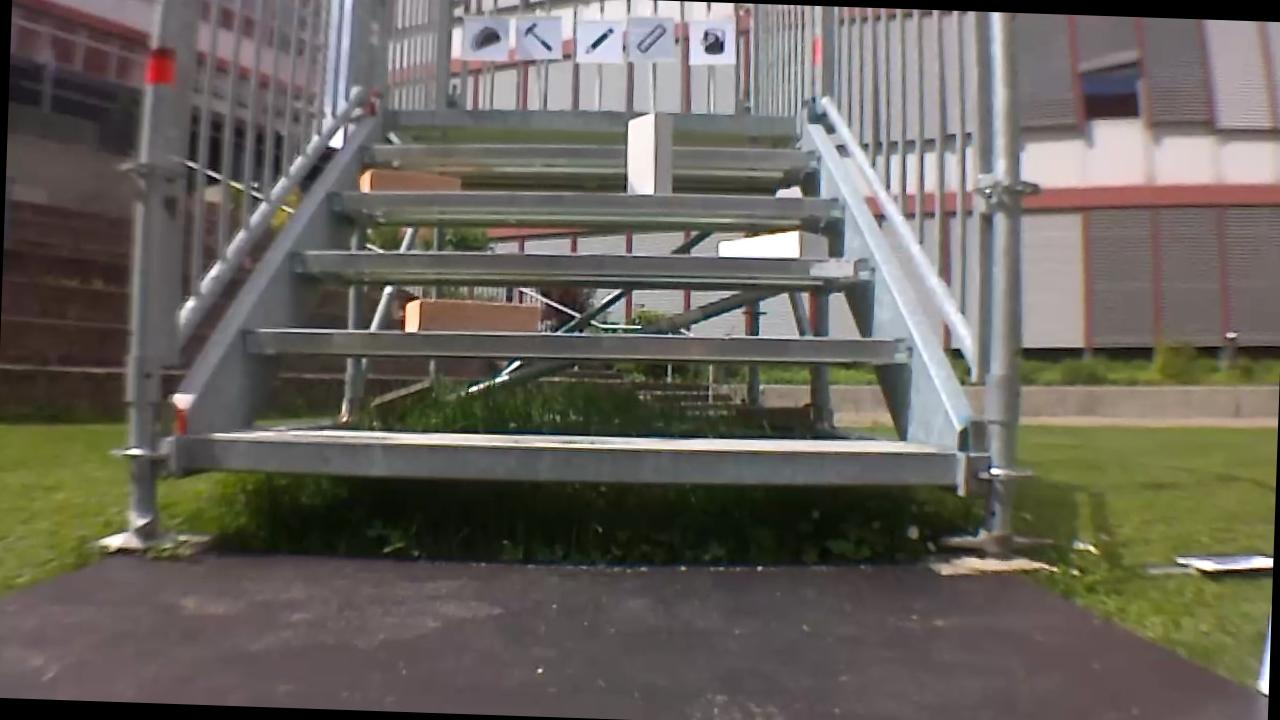brick: (403, 297, 539, 334), (624, 112, 673, 194), (719, 226, 827, 258), (358, 169, 458, 192)
bucket: (698, 22, 730, 57)
edge: (185, 425, 950, 495), (242, 314, 907, 366), (292, 237, 874, 285), (328, 180, 843, 221), (360, 133, 816, 172), (387, 104, 800, 139)
hammer: (518, 16, 556, 54)
pencil: (580, 21, 616, 58)
ruler: (629, 20, 669, 57)
steps: (170, 89, 973, 517)
taco: (462, 18, 505, 55)
